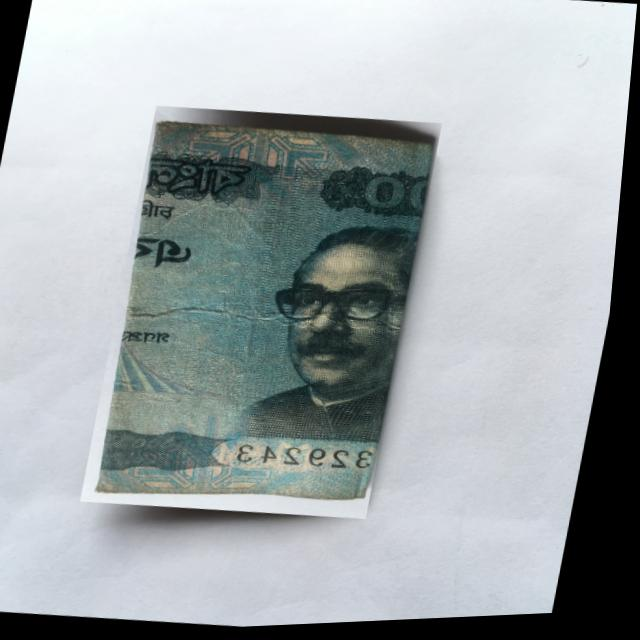Taka: (87, 97, 447, 533)
